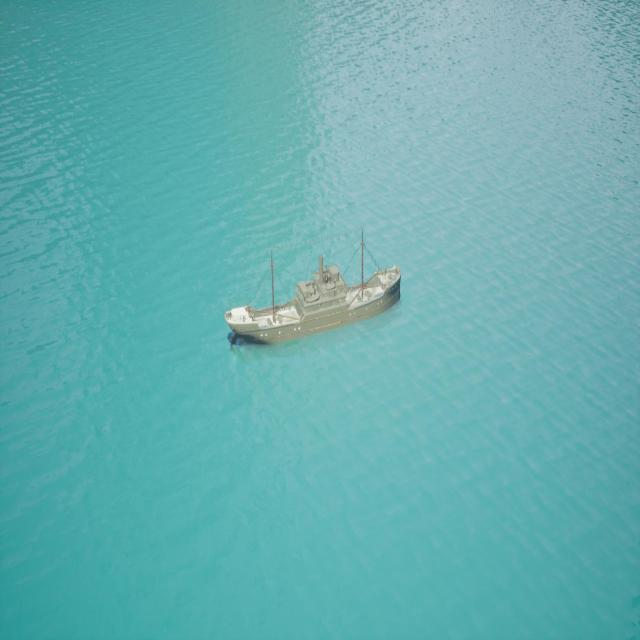fishing ship: (227, 256, 403, 350)
